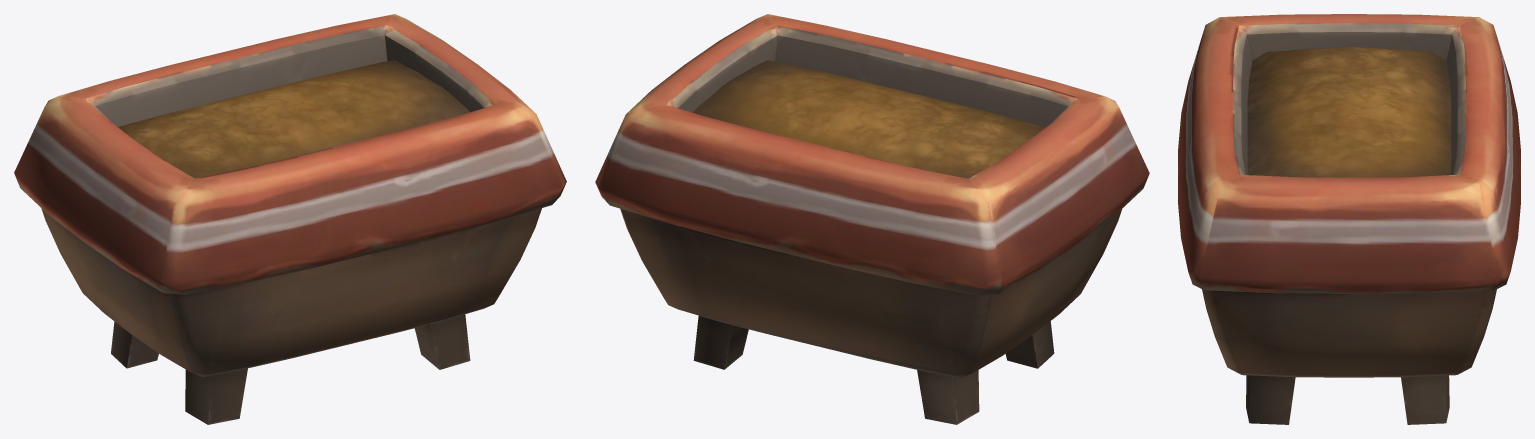
Rendered from DE_Flowerpot_04.fbx.
3 views of the same model, side by side, from view 1: azimuth 30°, elevation 25°; view 2: azimuth 150°, elevation 25°; view 3: azimuth 270°, elevation 25° (orthographic).
Visible parts, largest first — view 1: DE_Flowerpot_04; view 2: DE_Flowerpot_04; view 3: DE_Flowerpot_04.
Boxes of the visible parts, x1,y1,x2,y2 form: DE_Flowerpot_04: (14, 14, 566, 424); DE_Flowerpot_04: (595, 14, 1149, 424); DE_Flowerpot_04: (1178, 14, 1520, 424).
Bounding box in the file's own units: 3.23 × 1.87 × 2.25.
